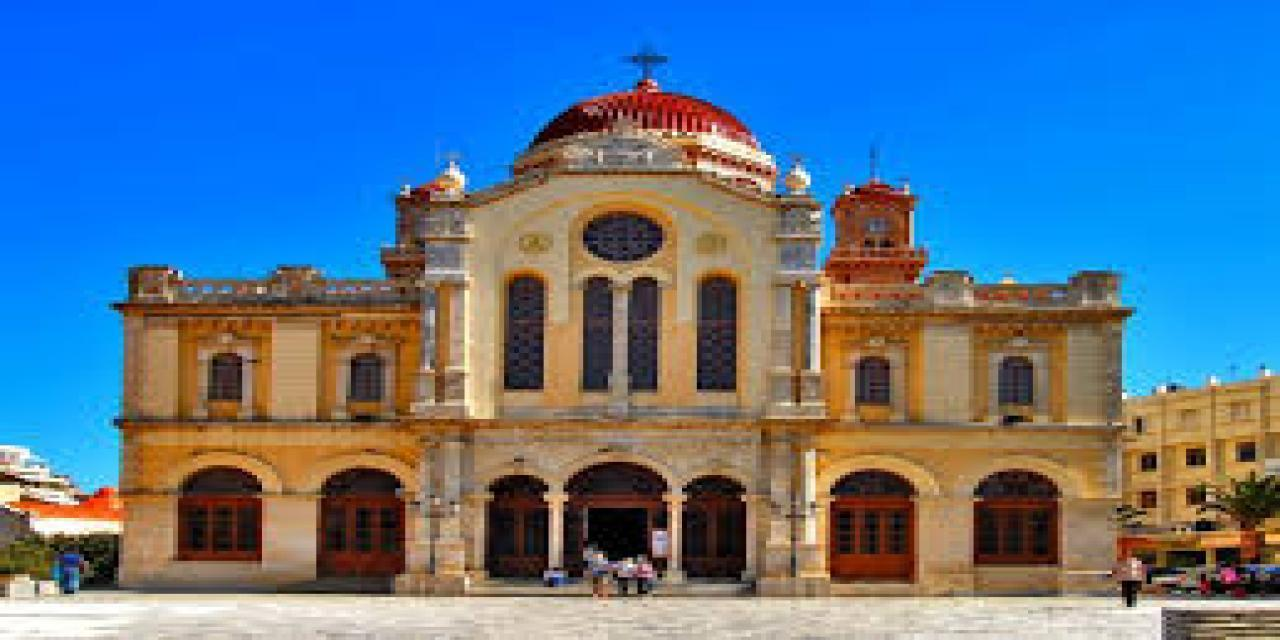Agios Minas: (93, 46, 1125, 596)
